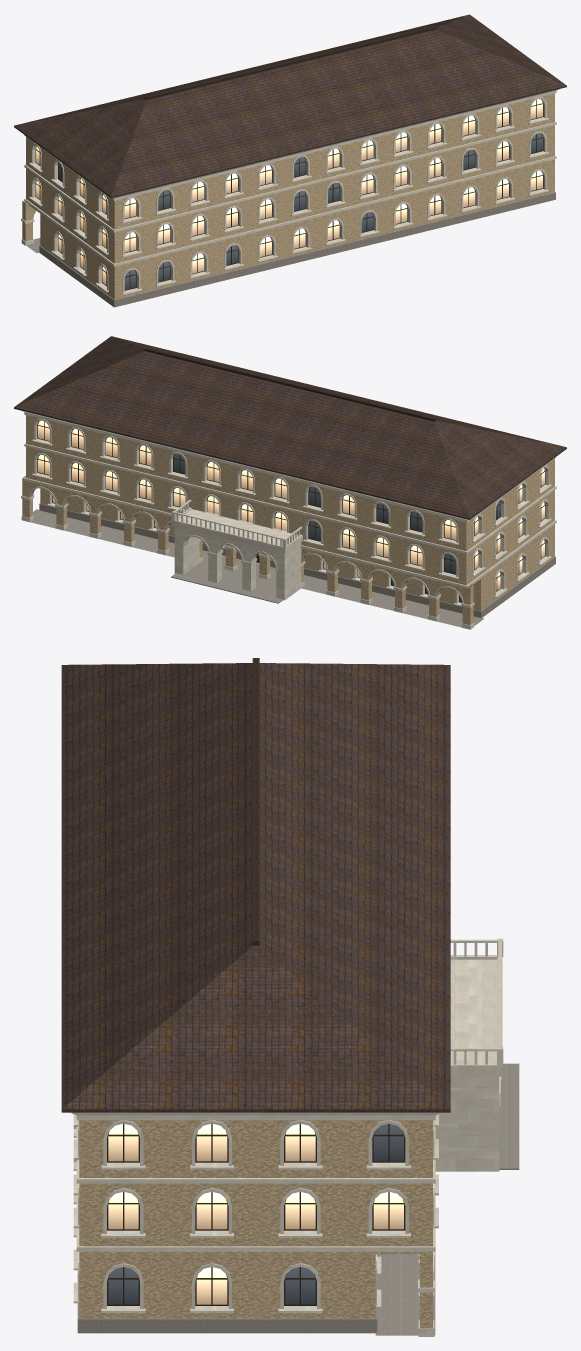
File: campus_admin.glb
3 renders of one model, top to bottom at view 1: azimuth 30°, elevation 25°; view 2: azimuth 150°, elevation 25°; view 3: azimuth 270°, elevation 25°, orthographic. The views are drawn at different scales.
Parts seen in each view (by area): view 1: wz_vc_adm, adm_glass, seethru_ck_tiles; view 2: wz_vc_adm, seethru_ck_tiles, adm_glass; view 3: wz_vc_adm, adm_glass, seethru_ck_tiles.
Boxes of the visible parts, x1,y1,x2,y2 form: wz_vc_adm: [14, 14, 566, 307]; adm_glass: [36, 99, 542, 289]; seethru_ck_tiles: [21, 200, 34, 245]; wz_vc_adm: [14, 336, 566, 629]; seethru_ck_tiles: [21, 476, 474, 629]; adm_glass: [38, 420, 544, 602]; wz_vc_adm: [61, 658, 519, 1335]; adm_glass: [108, 1124, 403, 1304]; seethru_ck_tiles: [418, 1076, 501, 1336].
Bounding box in the file's own units: 47.6 × 15.87 × 20.7.
Materials: 4 (2 with a texture image).
